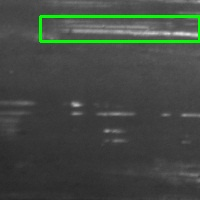scratches: (40, 16, 199, 41)
